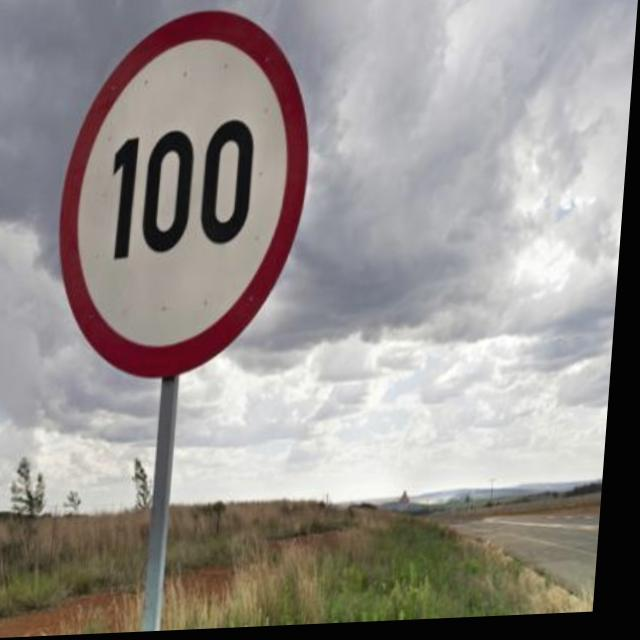limit100: (49, 6, 325, 388)
